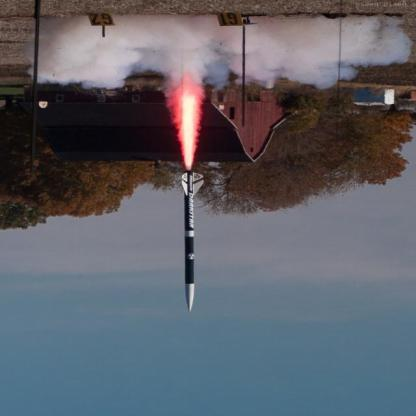MIL_TBM: (181, 169, 196, 310)
